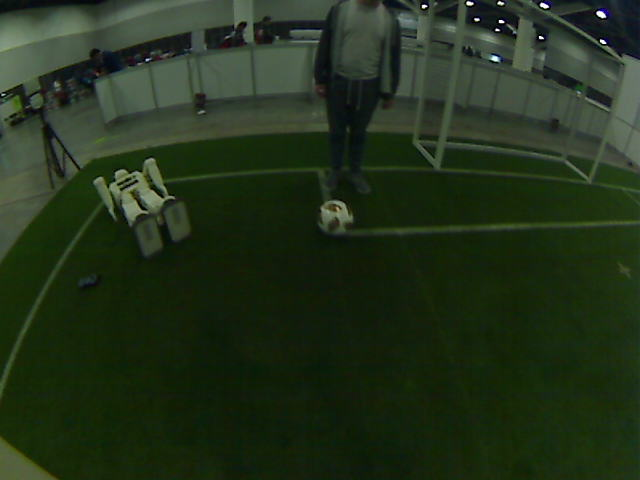ball: (313, 198, 353, 238)
goalpost: (568, 122, 608, 182), (418, 109, 458, 169)
robot: (147, 170, 193, 244)
